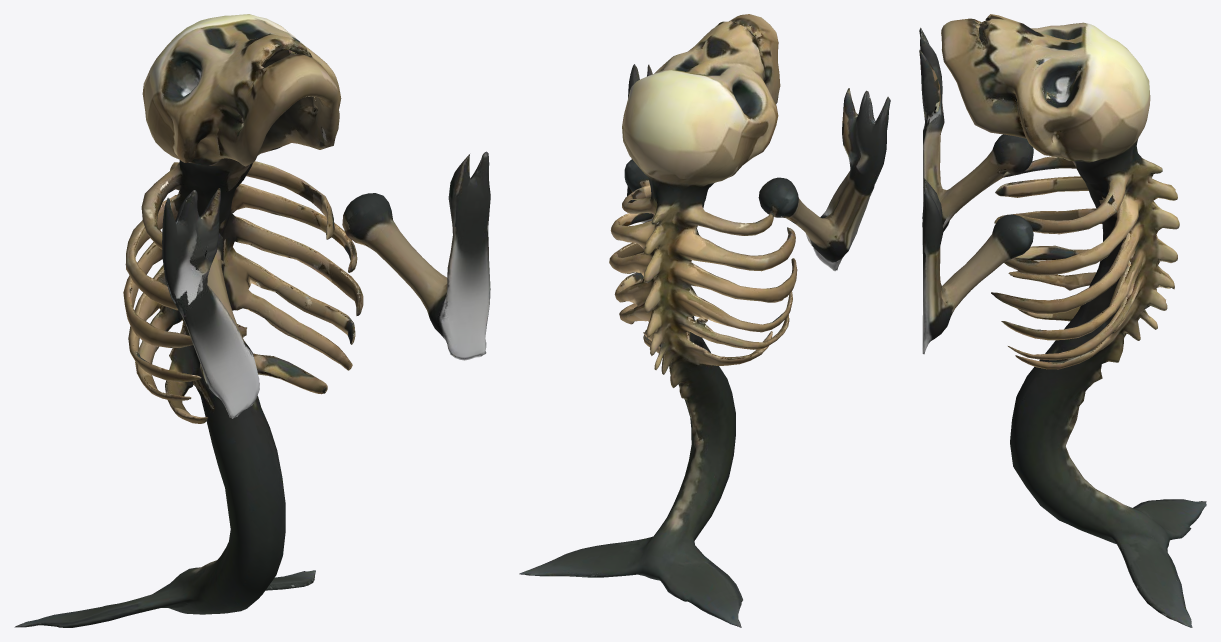
The model's file is Bake_Kujira2.glb.
The picture shows the model from 3 angles, left to right: view 1: azimuth 30°, elevation 25°; view 2: azimuth 150°, elevation 25°; view 3: azimuth 270°, elevation 25°; orthographic projection. The views are drawn at different scales.
Parts seen in each view (by area): view 1: Retopo_Bake-kujira2.001; view 2: Retopo_Bake-kujira2.001; view 3: Retopo_Bake-kujira2.001.
Boxes of the visible parts, box(x1,y1,x2,y2) form: Retopo_Bake-kujira2.001: box(14, 14, 490, 627); Retopo_Bake-kujira2.001: box(519, 14, 890, 627); Retopo_Bake-kujira2.001: box(919, 14, 1206, 627).
Bounding box in the file's own units: 0.9964 × 1.89 × 0.9018.
1 material, 1 textured.
